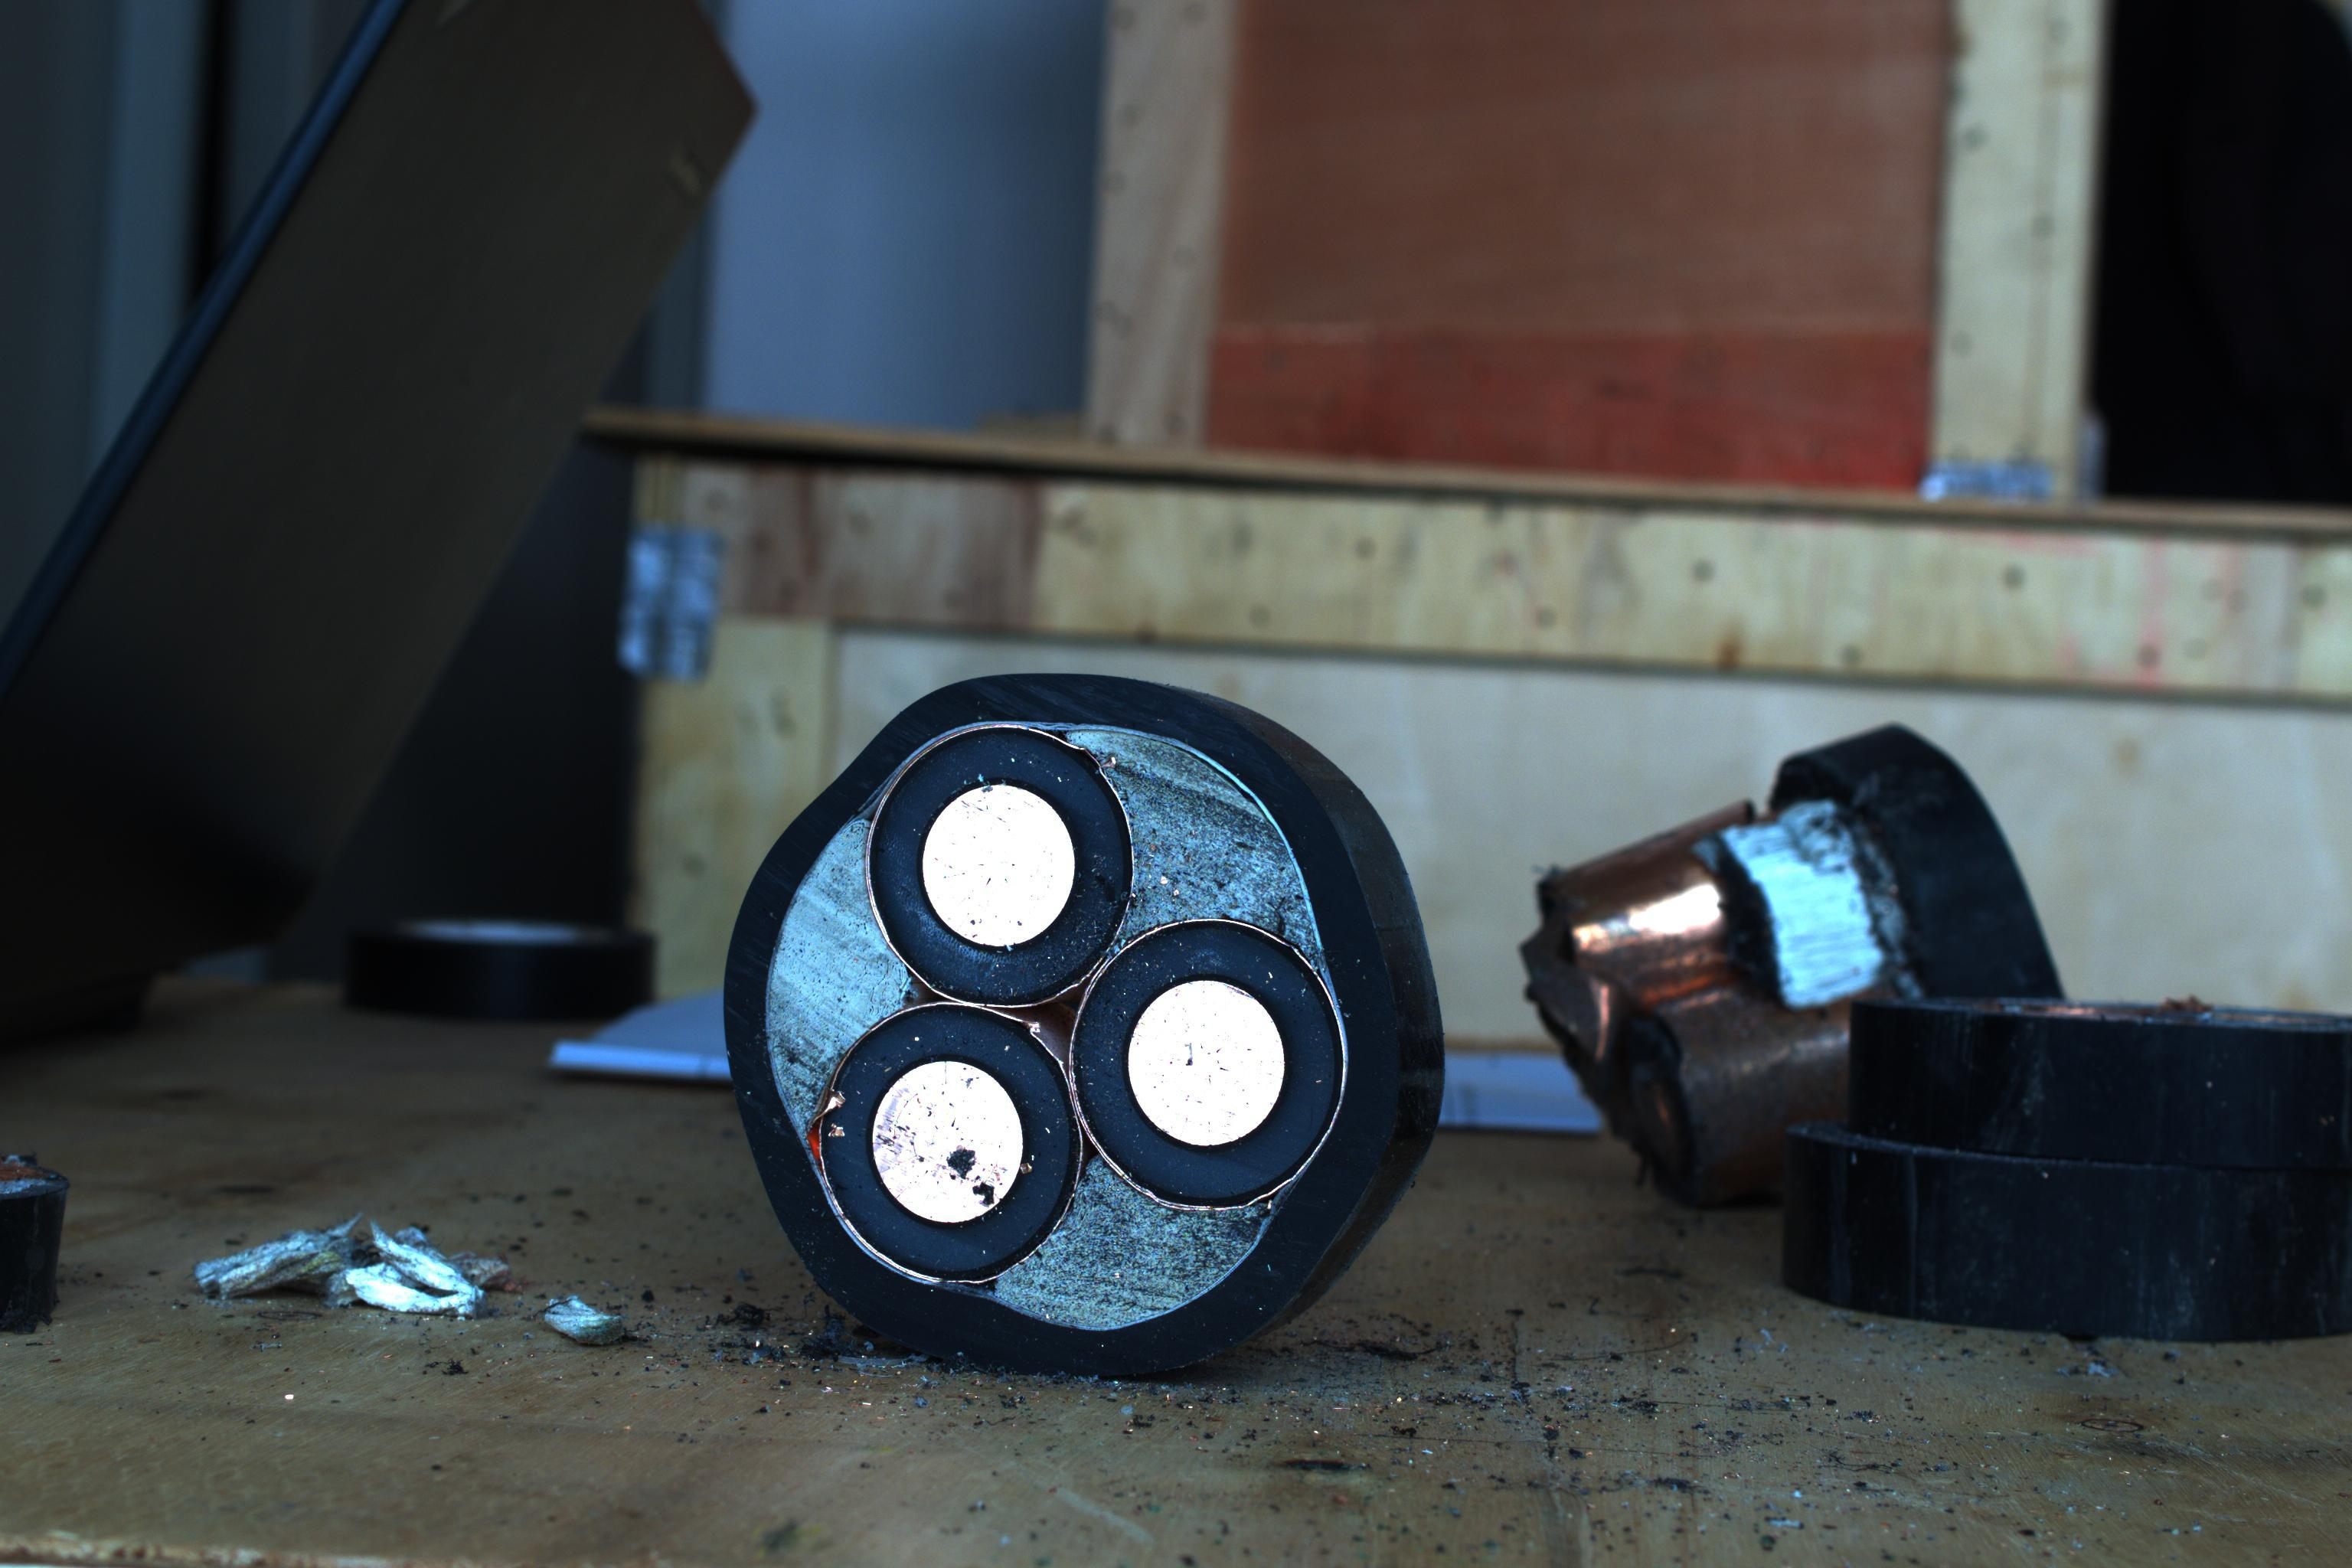ZA_YJV_8.7_10kV_3x240: (723, 689, 1388, 1375)
